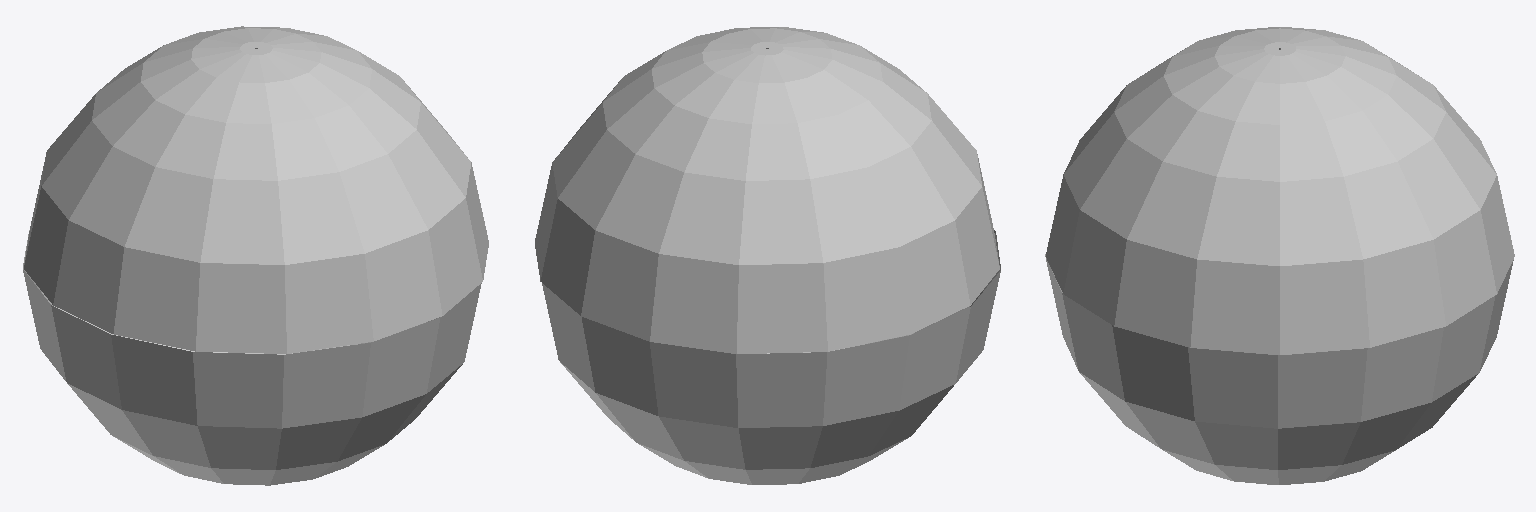
The model's file is ball.obj.
3 views of the same model, side by side, from view 1: azimuth 30°, elevation 25°; view 2: azimuth 150°, elevation 25°; view 3: azimuth 270°, elevation 25° (orthographic).
Visible parts, largest first — view 1: Sphere.001_Sphere.002; view 2: Sphere.001_Sphere.002; view 3: Sphere.001_Sphere.002.
Part boxes in pixels (x1,y1,x2,y2): Sphere.001_Sphere.002: (23, 26, 488, 485); Sphere.001_Sphere.002: (535, 27, 1000, 484); Sphere.001_Sphere.002: (1045, 27, 1514, 484).
Bounding box in the file's own units: 2.01 × 1.95 × 2.